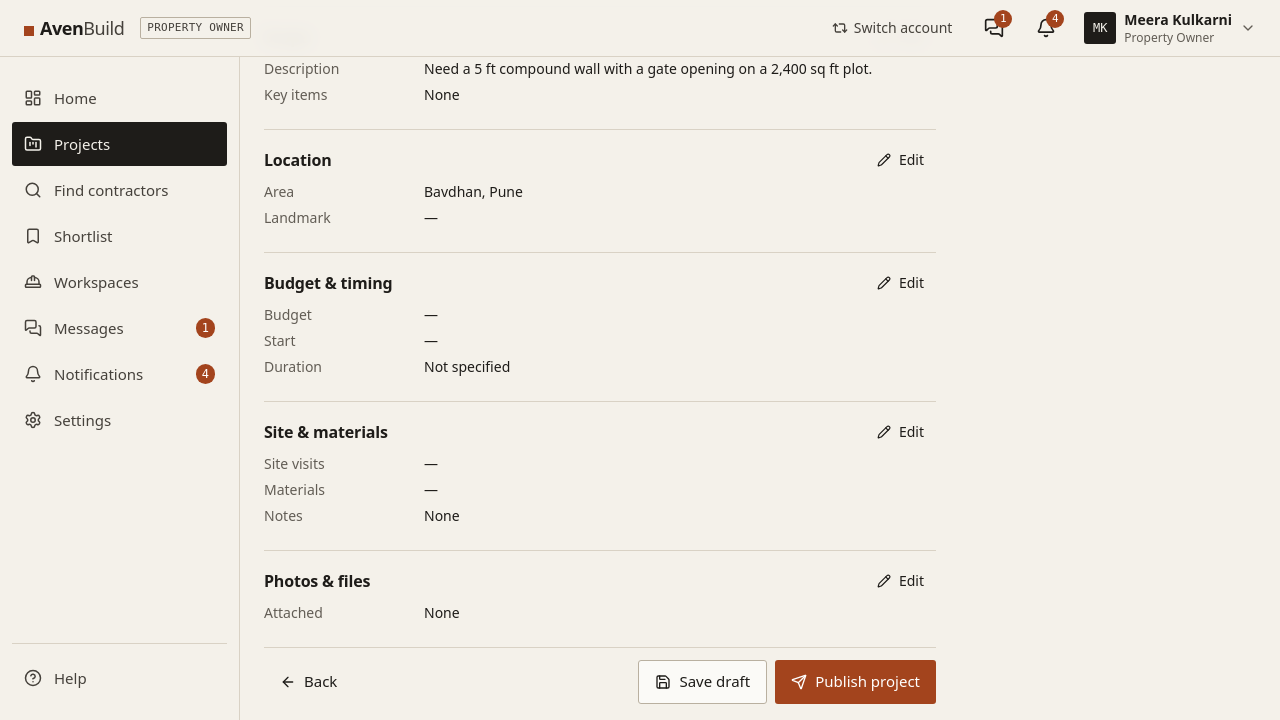
owner journey (UI) › a draft cannot be published until required fields are complete
(page scrolled)
What coordinates should you click on to do the following:
click the button "Publish project"
I would click on:
 (856, 682)
Its box is [775,660,936,704].
(page scrolled)
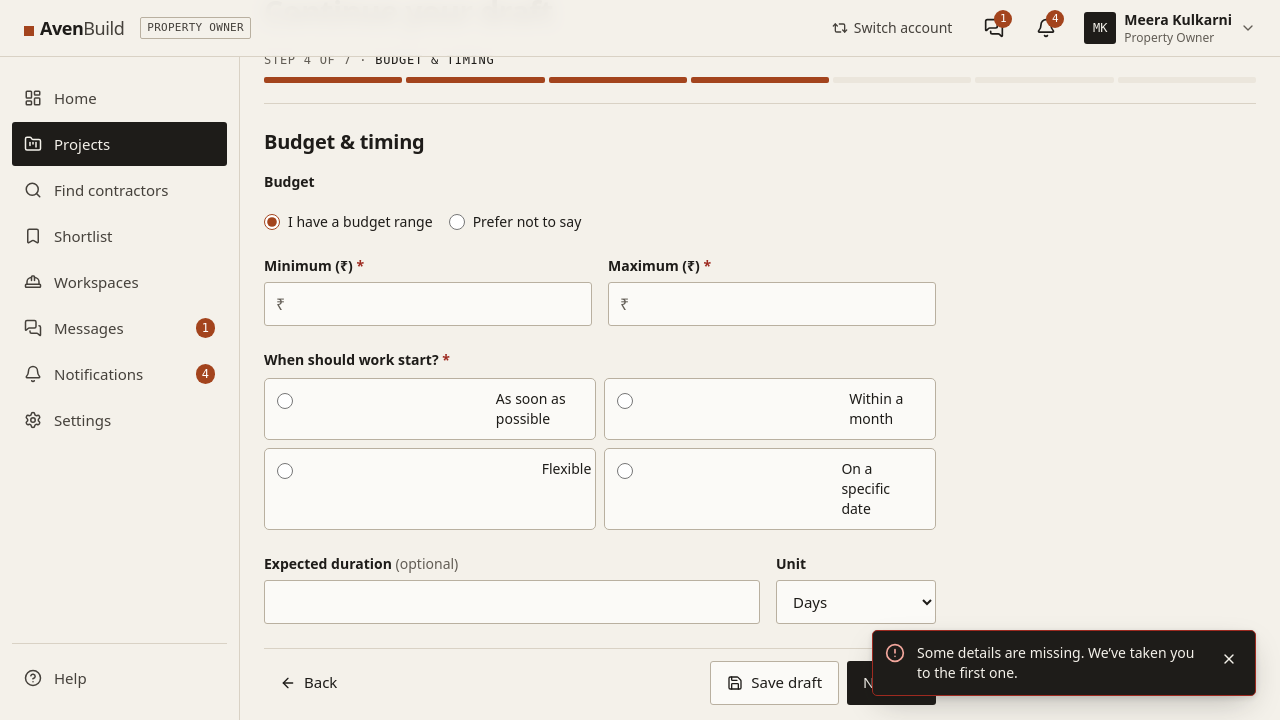
Result: the heading "Budget & timing" is shown at [264,128,424,154]
